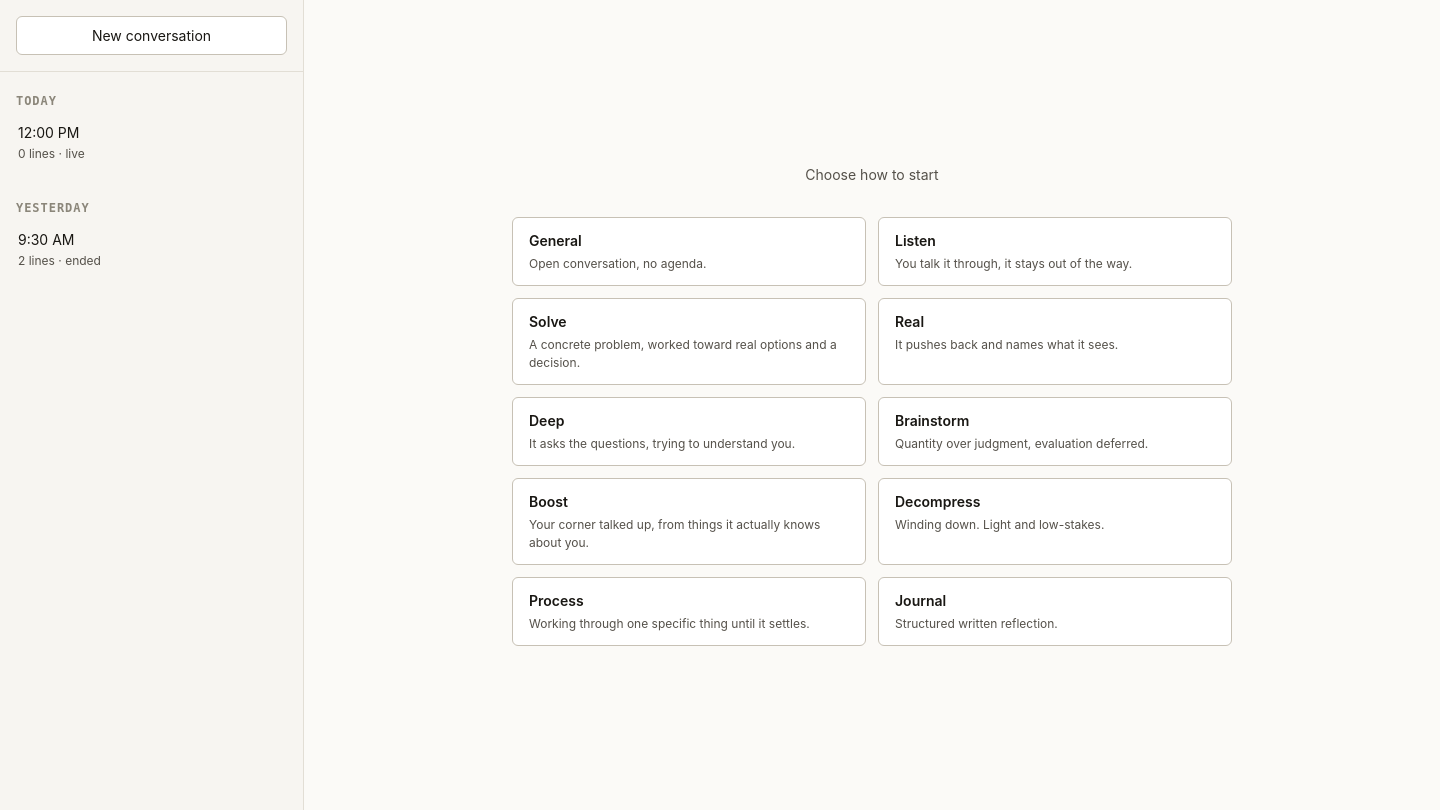
it: Conversations › keeps earlier messages visible after sending another one (the headline bug)
Click the button "general Open conversation, no agenda." at x=555, y=240, box [512,217,866,286]
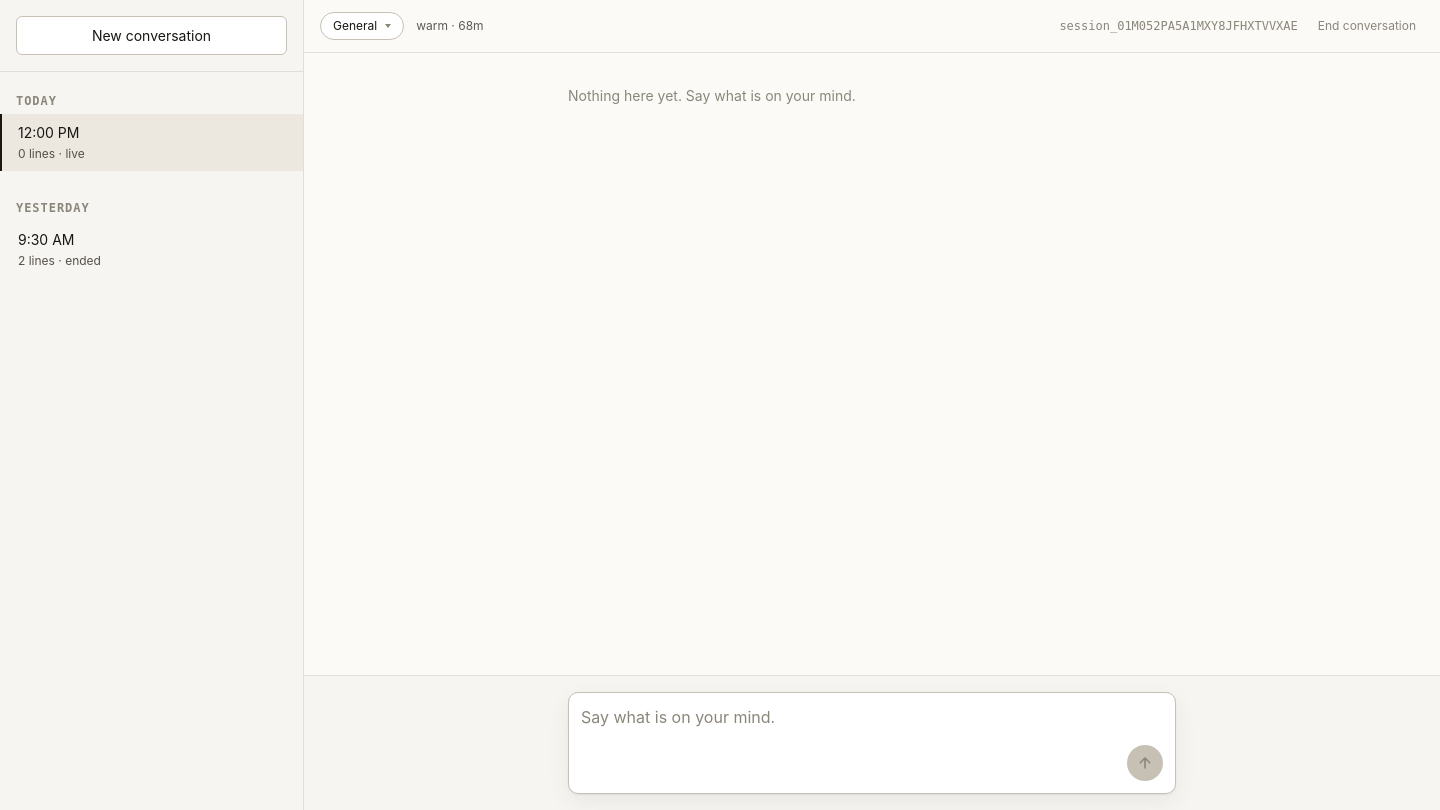
Type "First message" into the text box named "Message" at x=854, y=743, box [581,705,1127,781]
Then press Enter
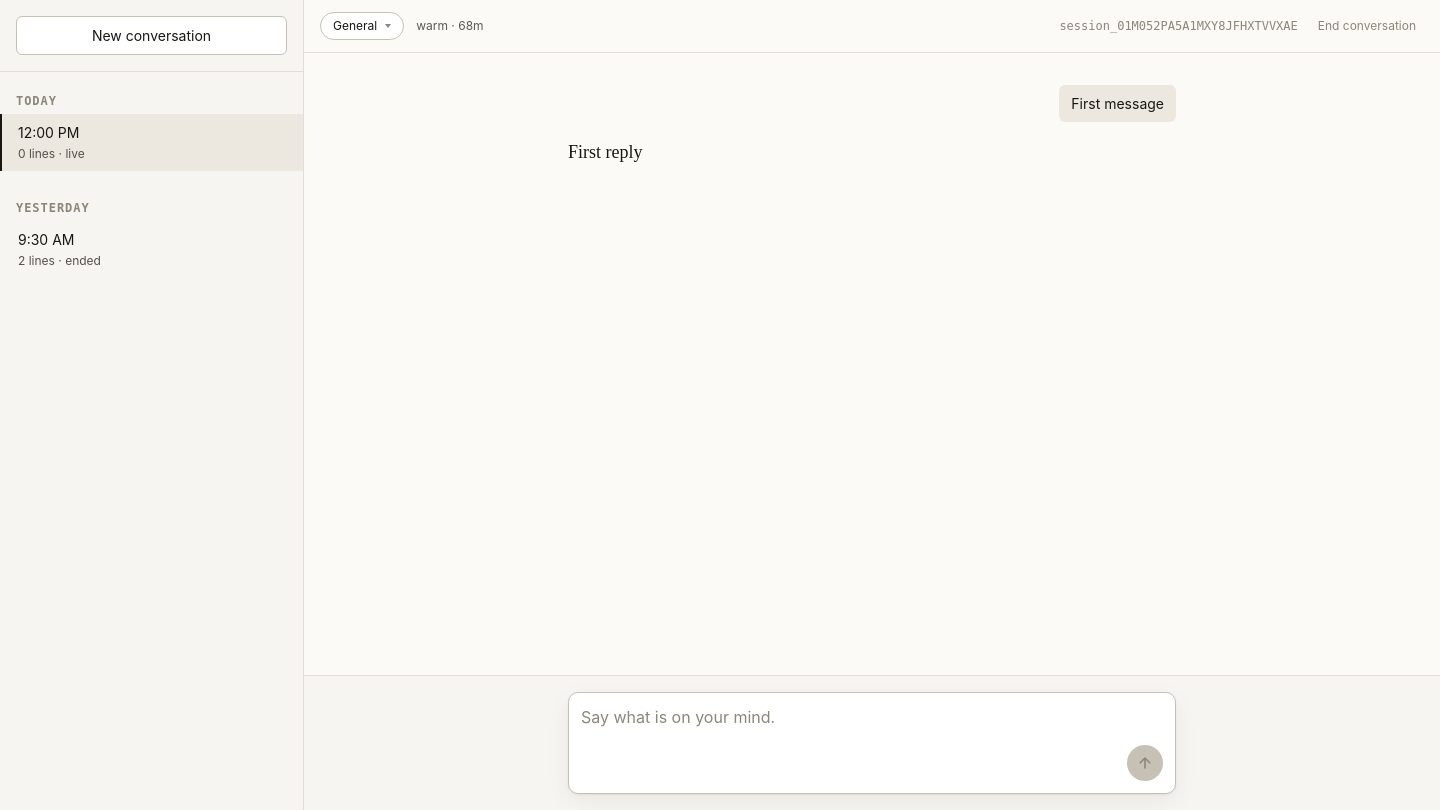
expect the text "First reply" is shown: met, box [567,141,642,162]
expect the text "First message" is shown: met, box [1059,85,1176,122]
Type "Second message" into the text box named "Message" at x=854, y=743, box [581,705,1127,781]
Then press Enter
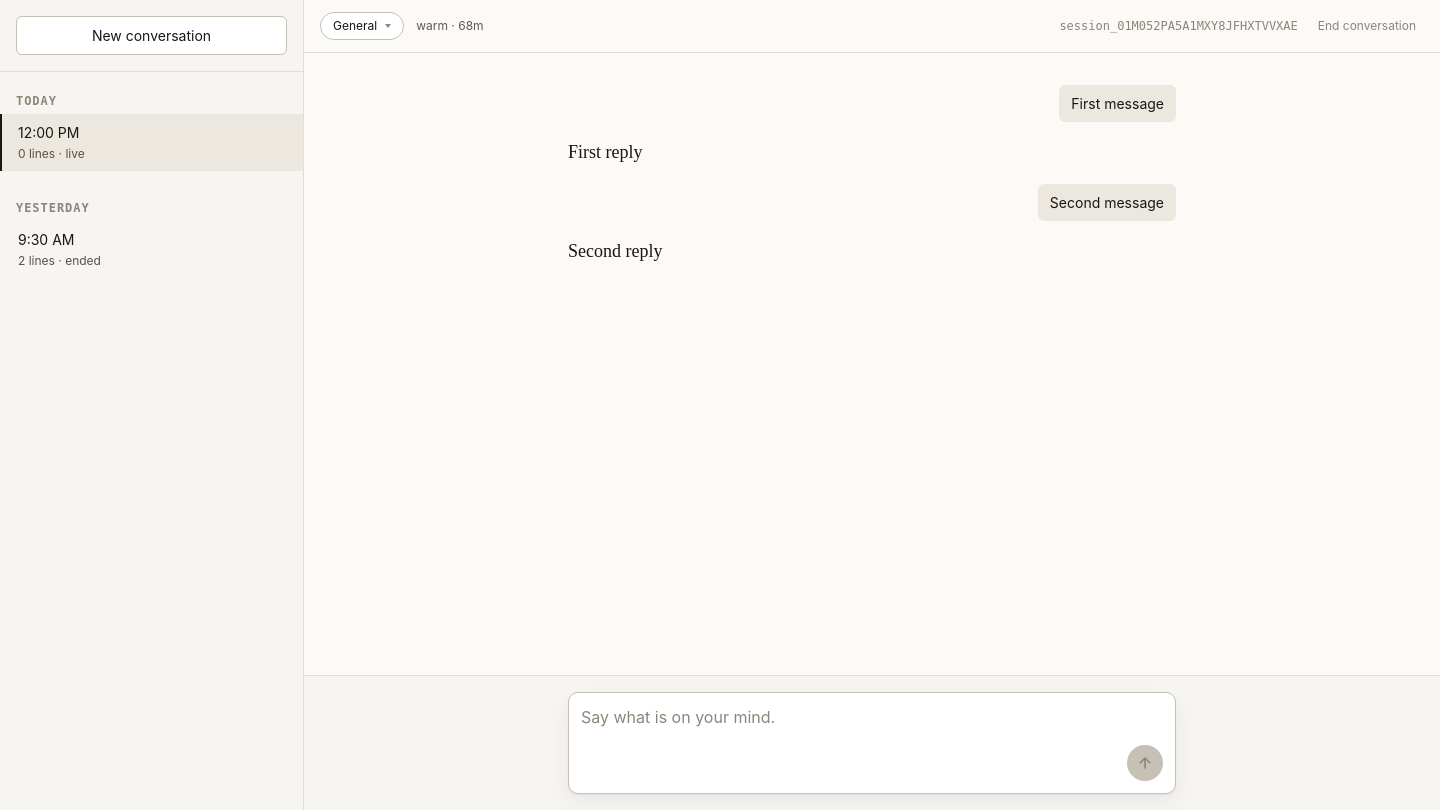
expect the text "First message" is shown: met, box [1059,85,1176,122]
expect the text "First reply" is shown: met, box [567,141,642,162]
expect the text "Second reply" is shown: met, box [567,240,662,261]
